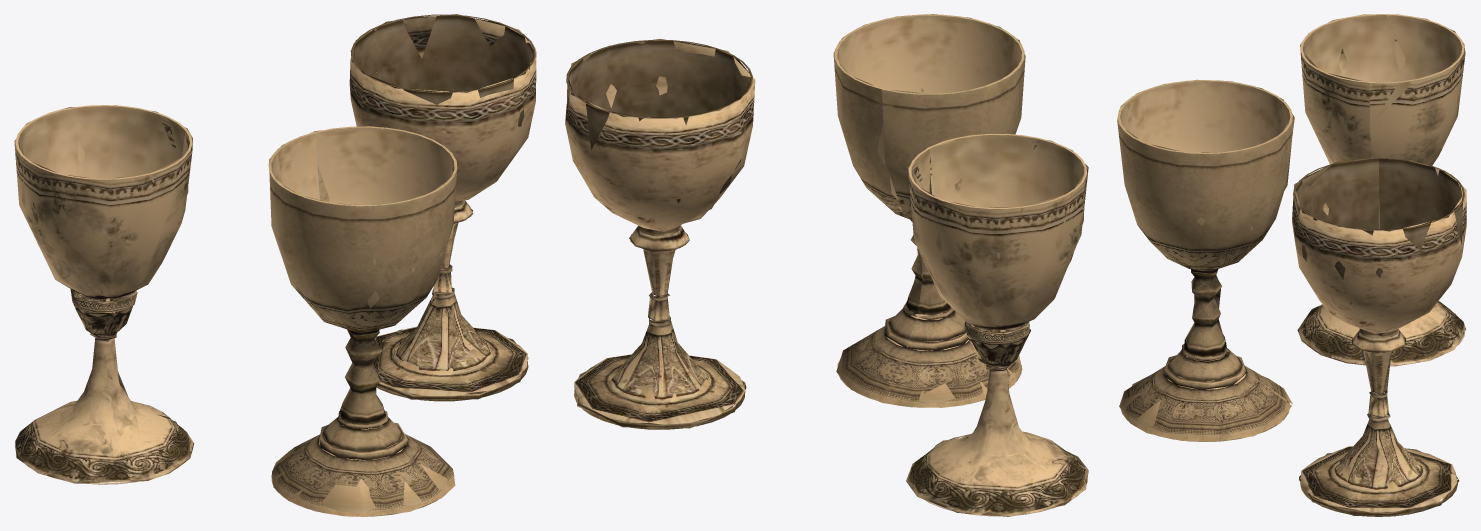
The model's file is brass_goblets.glb.
3 views of the same model, side by side, from view 1: azimuth 30°, elevation 25°; view 2: azimuth 150°, elevation 25°; view 3: azimuth 270°, elevation 25° (orthographic). The views are drawn at different scales.
Parts seen in each view (by area): view 1: brass_goblet_01; view 2: brass_goblet_01; view 3: brass_goblet_01.
Part boxes in pixels (x1,y1,x2,y2): brass_goblet_01: (14,14,536,516); brass_goblet_01: (565,14,1088,516); brass_goblet_01: (1117,14,1466,516).
Bounding box in the file's own units: 0.4533 × 0.2734 × 0.298.
3 materials, 3 textured.
